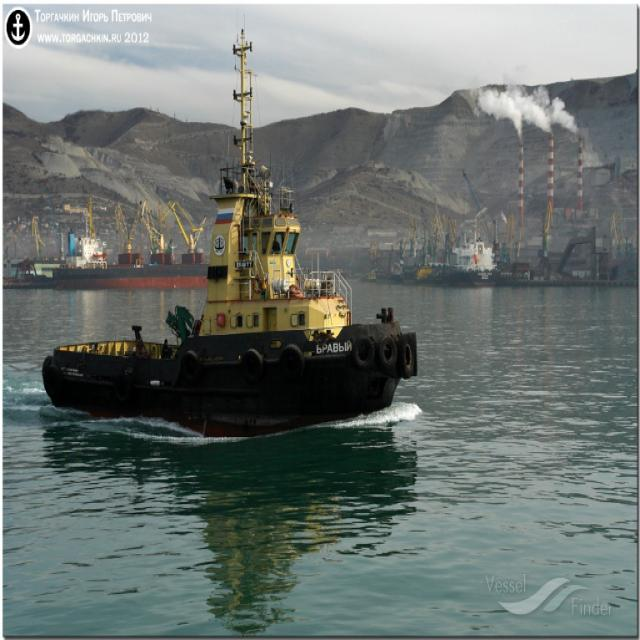tugboat: (42, 31, 418, 438)
